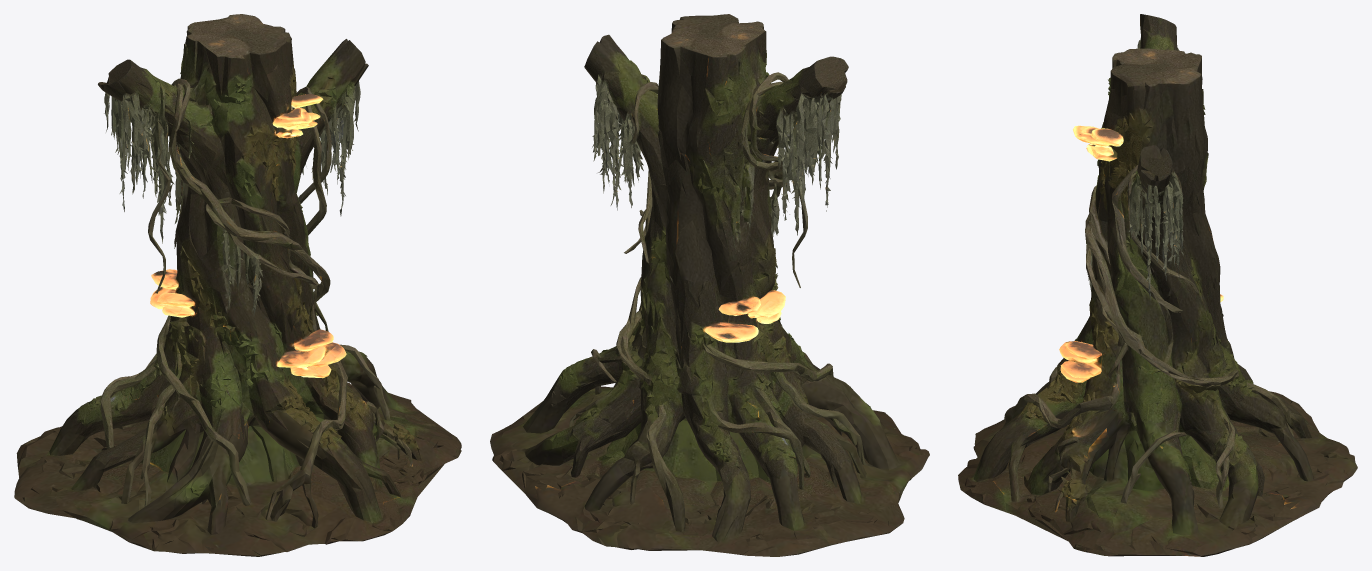
The model's file is sp_mtree_2.glb.
3 renders of one model, left to right at view 1: azimuth 30°, elevation 25°; view 2: azimuth 150°, elevation 25°; view 3: azimuth 270°, elevation 25°, orthographic. The views are drawn at different scales.
Visible parts, largest first — view 1: Mesh_0; view 2: Mesh_0; view 3: Mesh_0.
Part boxes in pixels (x1=…): Mesh_0: x1=14, y1=14, x2=461, y2=556; Mesh_0: x1=490, y1=14, x2=929, y2=556; Mesh_0: x1=958, y1=14, x2=1357, y2=556.
Size of the model in its own units: 1.82 by 1.9 by 1.7.
1 material, 1 textured.
